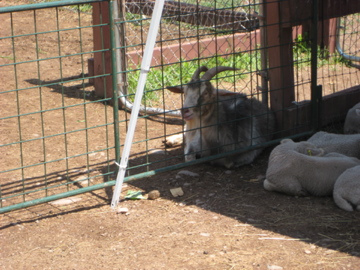goat: (166, 66, 275, 168)
